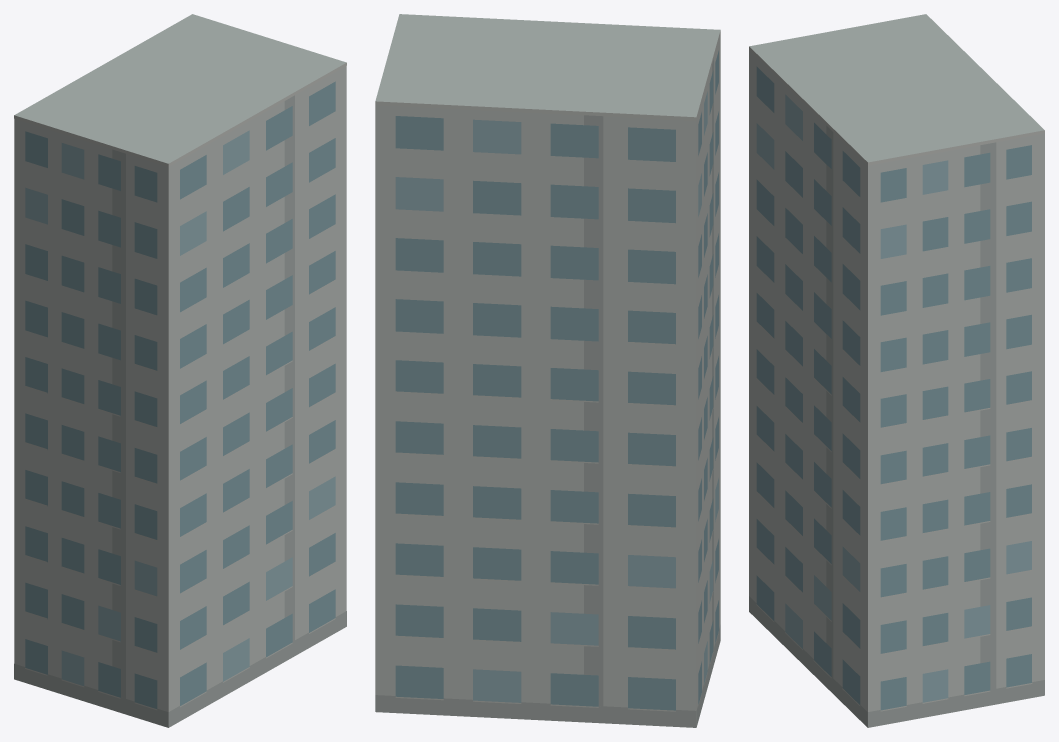
Rendered from residential-f9083b4f-30a4-47eb-b6a7-e3d70a16aa30.glb.
3 renders of one model, left to right at view 1: azimuth 30°, elevation 25°; view 2: azimuth 150°, elevation 25°; view 3: azimuth 270°, elevation 25°, orthographic. The views are drawn at different scales.
Parts seen in each view (by area): view 1: residential-f9083b4f-30a4-47eb-b6a7-e3d70a16aa30.tmp; view 2: residential-f9083b4f-30a4-47eb-b6a7-e3d70a16aa30.tmp; view 3: residential-f9083b4f-30a4-47eb-b6a7-e3d70a16aa30.tmp.
Boxes of the visible parts, bbox=[...] form: residential-f9083b4f-30a4-47eb-b6a7-e3d70a16aa30.tmp: bbox=[14, 14, 346, 727]; residential-f9083b4f-30a4-47eb-b6a7-e3d70a16aa30.tmp: bbox=[375, 14, 720, 727]; residential-f9083b4f-30a4-47eb-b6a7-e3d70a16aa30.tmp: bbox=[749, 14, 1044, 727].
Size of the model in its own units: 23.66 by 42 by 19.91.
